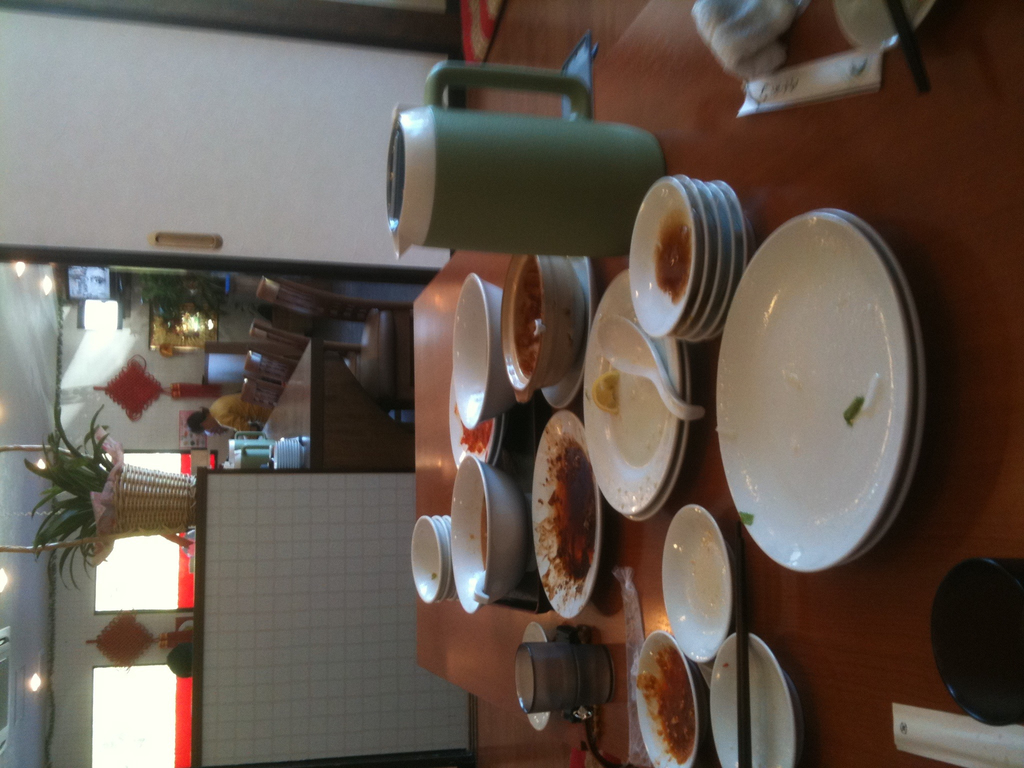plate: (704, 216, 908, 573), (838, 201, 940, 566), (728, 181, 749, 270)
